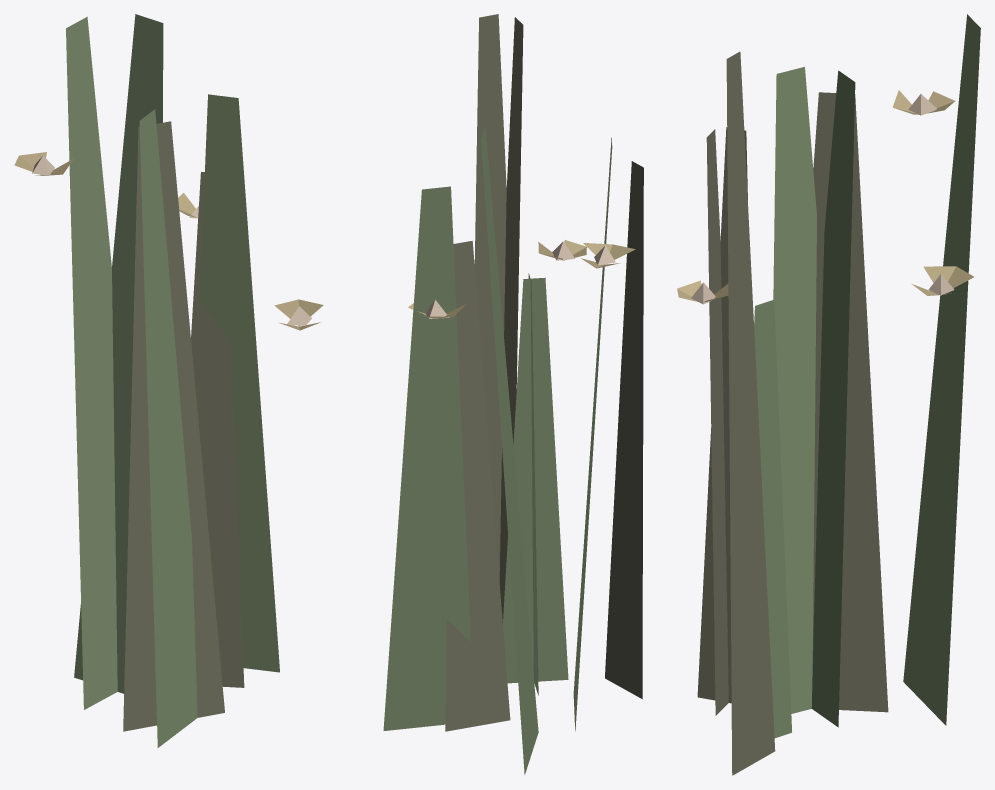
Rendered from cao.luwei__winter.glb.
3 views of the same model, side by side, from view 1: azimuth 30°, elevation 25°; view 2: azimuth 150°, elevation 25°; view 3: azimuth 270°, elevation 25° (orthographic). The views are drawn at different scales.
Parts seen in each view (by area): view 1: cao.luwei__winter; view 2: cao.luwei__winter; view 3: cao.luwei__winter.
Part boxes in pixels (x1,y1,x2,y2): cao.luwei__winter: (14, 14, 323, 747); cao.luwei__winter: (383, 14, 643, 774); cao.luwei__winter: (677, 14, 980, 775).
Size of the model in its own units: 0.8967 by 2.41 by 0.9459.
